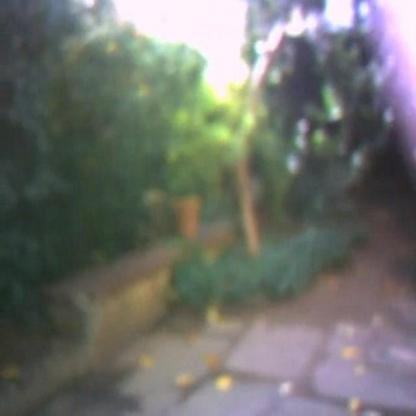other: (102, 3, 348, 98)
